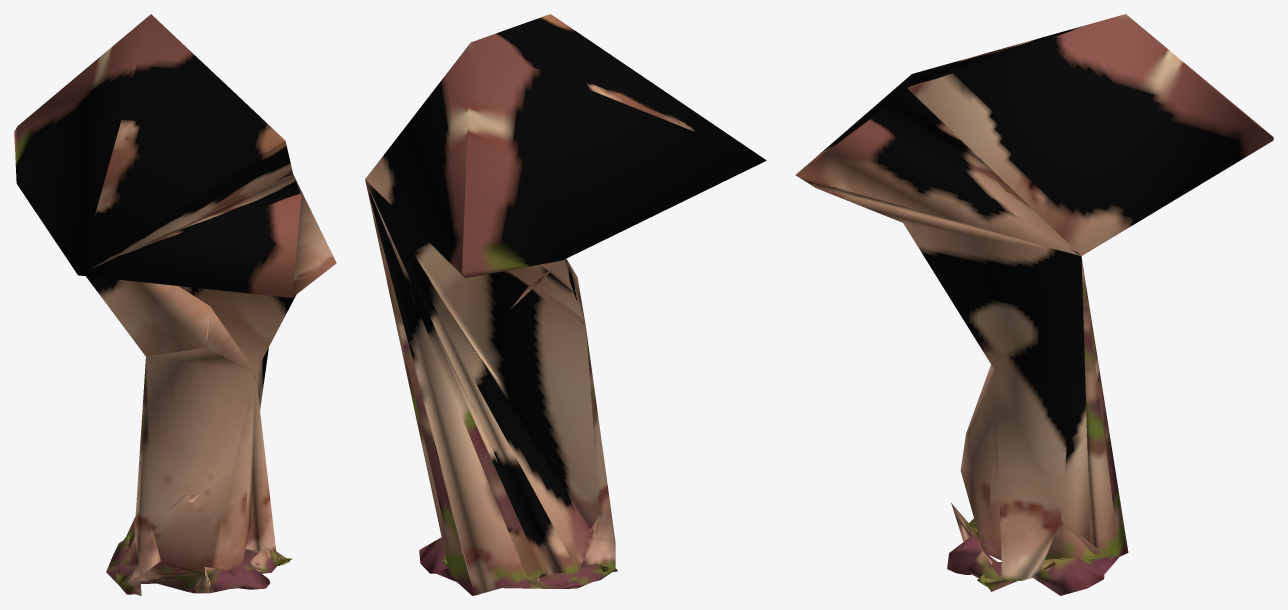
Rendered from dev_mantar_lod2.glb.
3 views of the same model, side by side, from view 1: azimuth 30°, elevation 25°; view 2: azimuth 150°, elevation 25°; view 3: azimuth 270°, elevation 25° (orthographic). The views are drawn at different scales.
Parts seen in each view (by area): view 1: dev_mantar_lod2; view 2: dev_mantar_lod2; view 3: dev_mantar_lod2.
Part boxes in pixels (x1,y1,x2,y2): dev_mantar_lod2: (14, 14, 336, 595); dev_mantar_lod2: (365, 14, 766, 595); dev_mantar_lod2: (795, 14, 1273, 595).
Size of the model in its own units: 1.5 by 2.52 by 2.02.
Materials: 1 (1 with a texture image).
